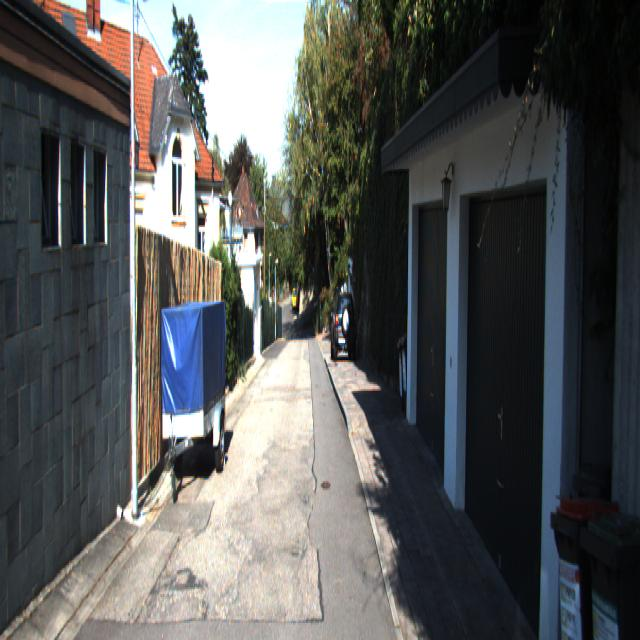Car: (330, 290, 357, 363)
DontCare: (292, 286, 300, 315)
Misc: (160, 298, 227, 496)
